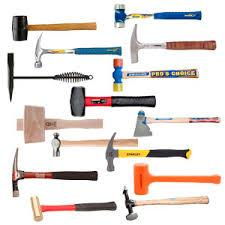hammer: (103, 129, 192, 172), (31, 29, 124, 69), (48, 129, 139, 158)
